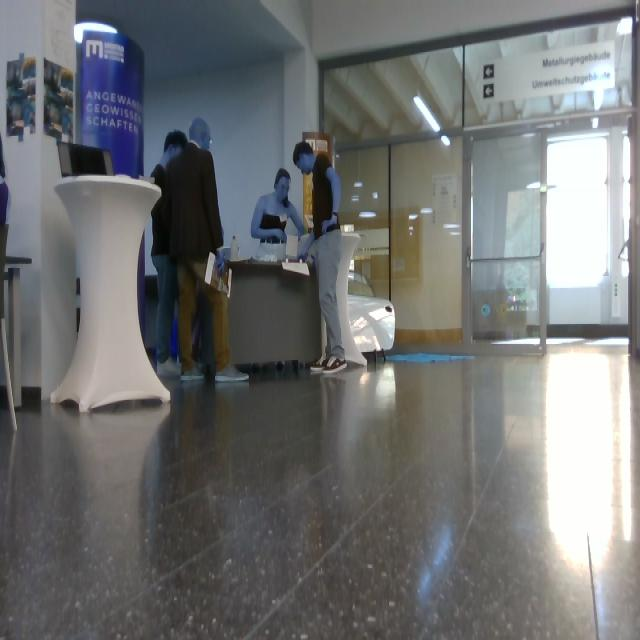desk: (230, 261, 320, 362)
door: (322, 5, 634, 354)
light bulb: (414, 96, 440, 132), (75, 22, 117, 42), (441, 134, 450, 146)
person: (167, 120, 248, 381), (294, 142, 347, 377), (151, 132, 188, 379), (251, 169, 305, 262)
pillar: (1, 1, 77, 398)
table: (52, 176, 170, 412), (337, 233, 366, 365)
tiled floor: (1, 348, 640, 640)
